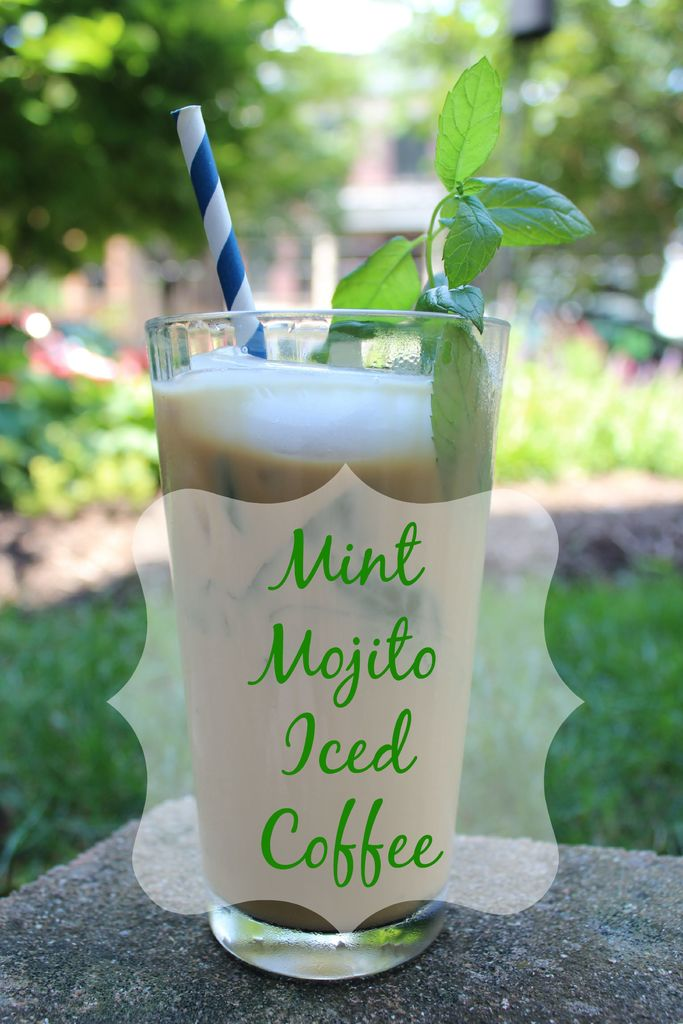Tree: (0, 0, 375, 278), (382, 0, 683, 326)
